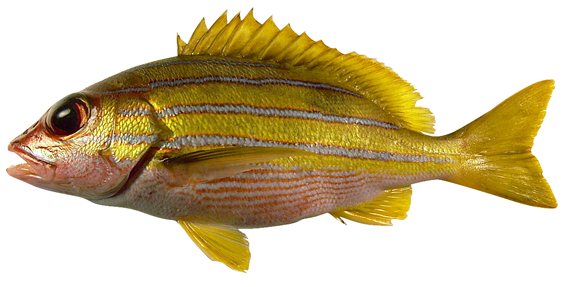fish: (5, 6, 559, 274)
